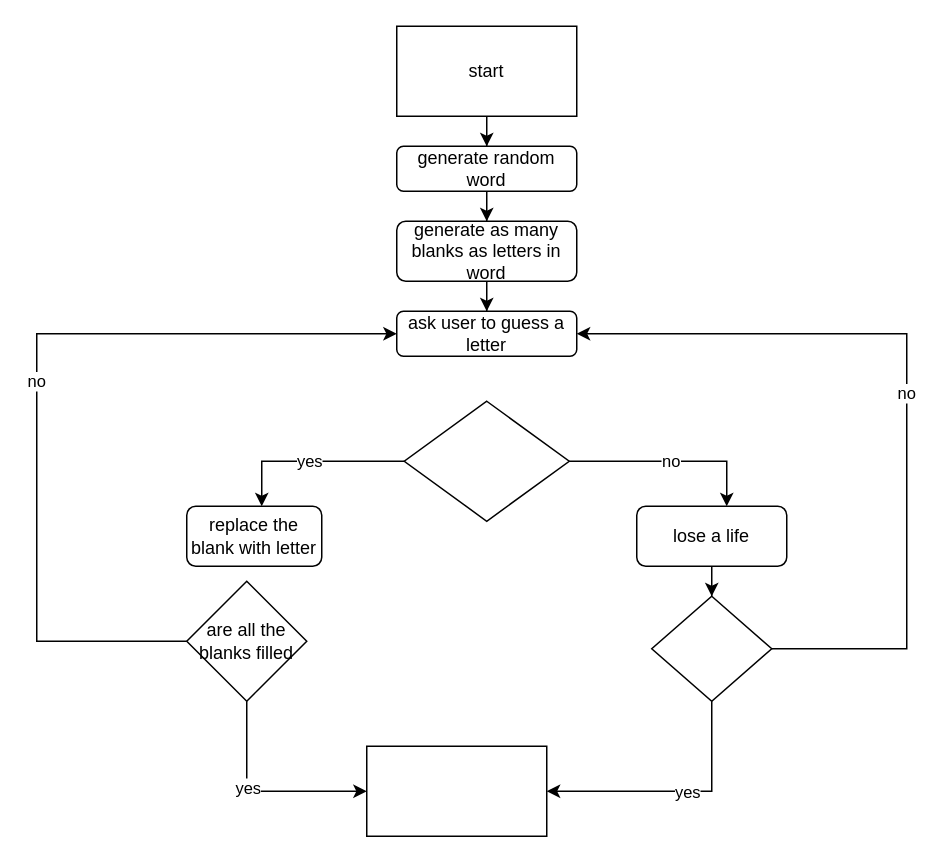
Some shapes in this 945 by 863 pixel diagram are drawn without their labels. The centre of each missing label's shape, as x and y in pixels:
end game: point (456, 790)
have you run out of lives: point (711, 648)
is the letter in the word: point (486, 460)
